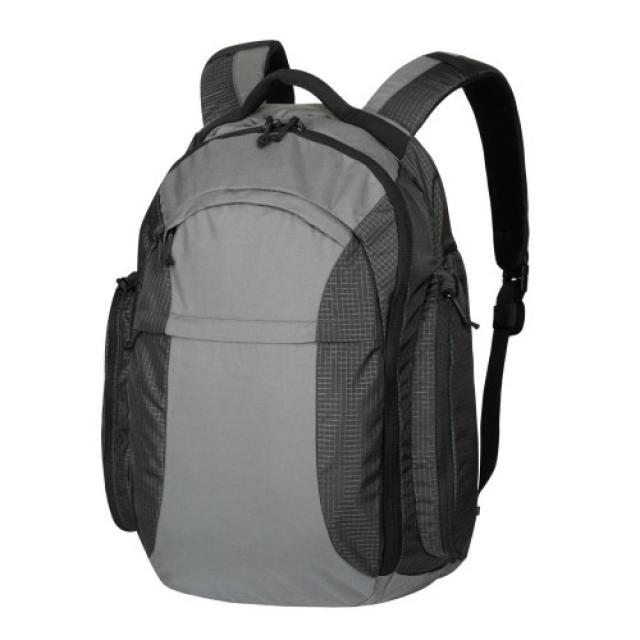Backpacks: (98, 67, 482, 616)
